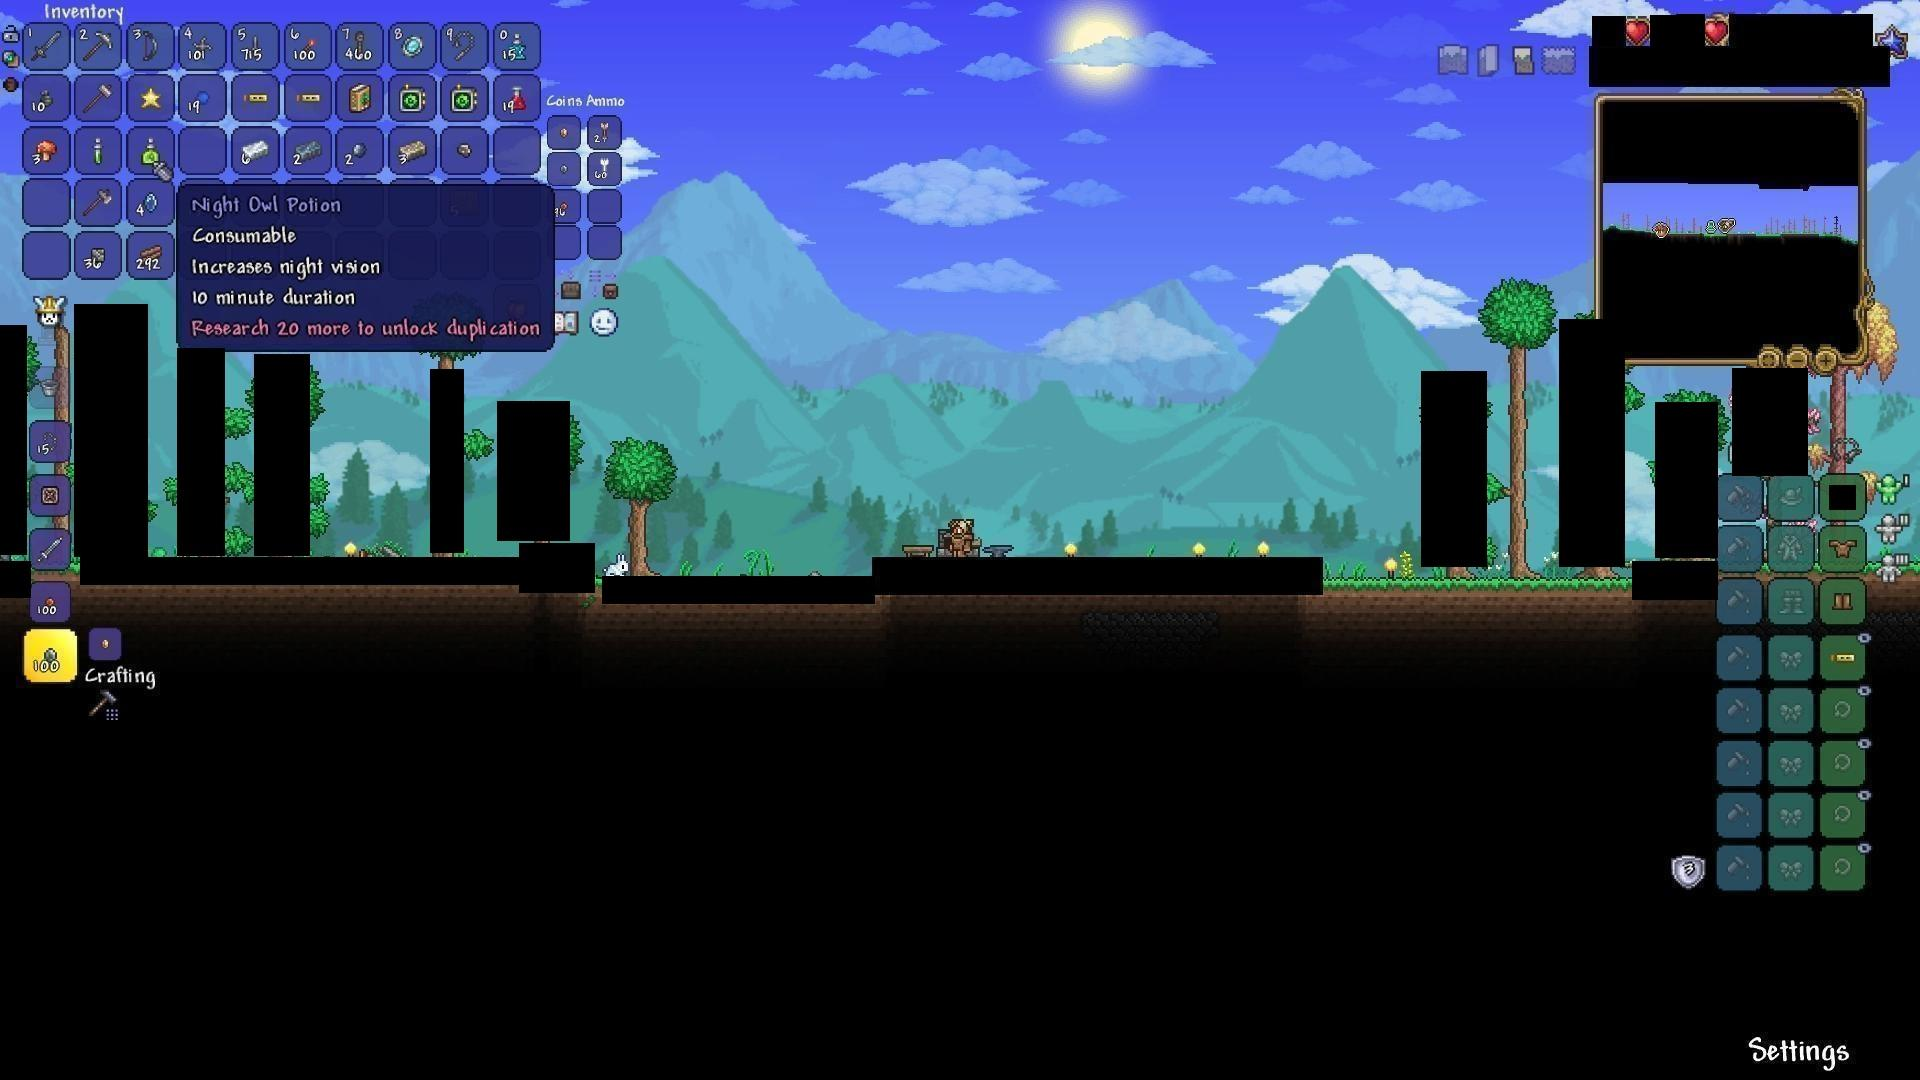breastplate: (1830, 538, 1858, 558)
dirt: (1328, 570, 1631, 605)
heart: (1702, 17, 1733, 51), (1625, 15, 1651, 44)
legs: (1830, 589, 1858, 615)
tree: (1489, 268, 1553, 568), (600, 430, 669, 576)
wood: (137, 237, 167, 266)
workbench: (899, 535, 936, 560)
